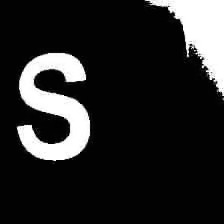LTR_S: (12, 46, 95, 165)
